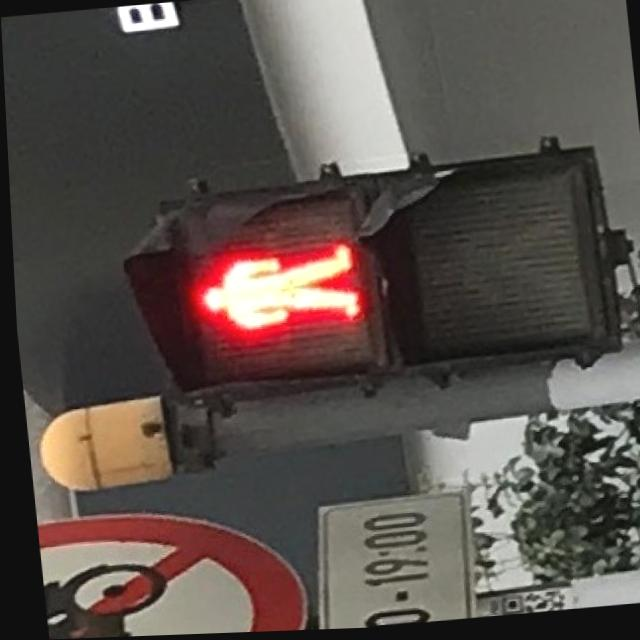red_light: (158, 206, 372, 390)
